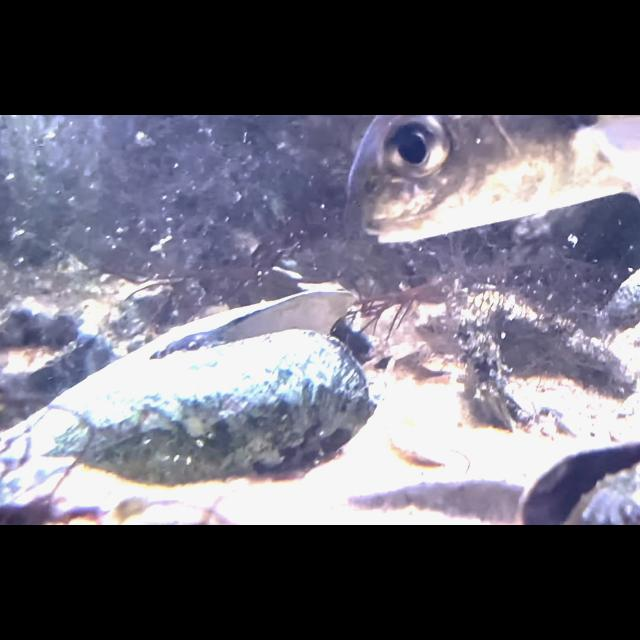Oyster-Closed: (602, 263, 640, 331)
Oyster-Open: (42, 278, 376, 486), (514, 438, 640, 526)
